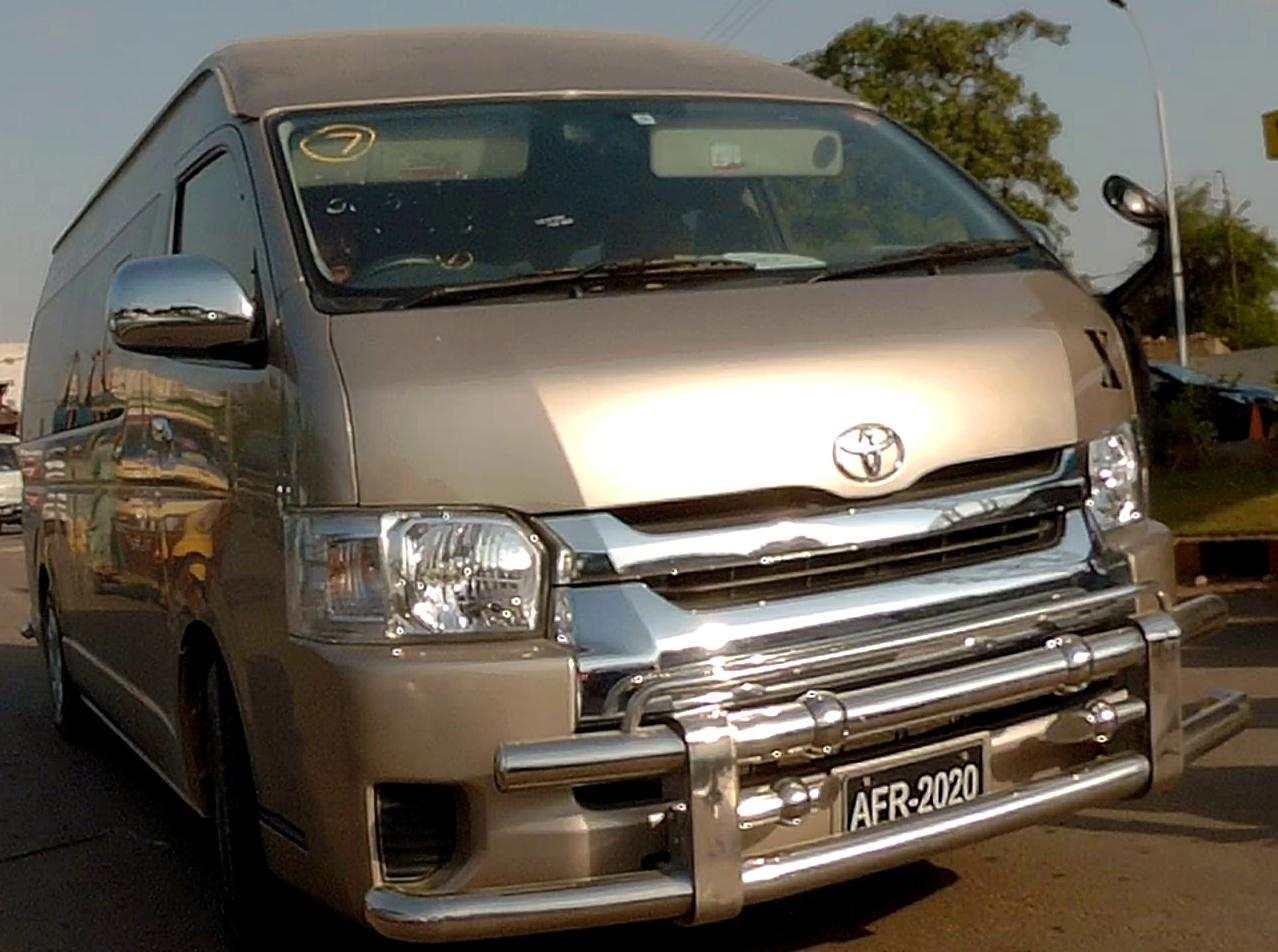car: (0, 30, 1185, 883)
